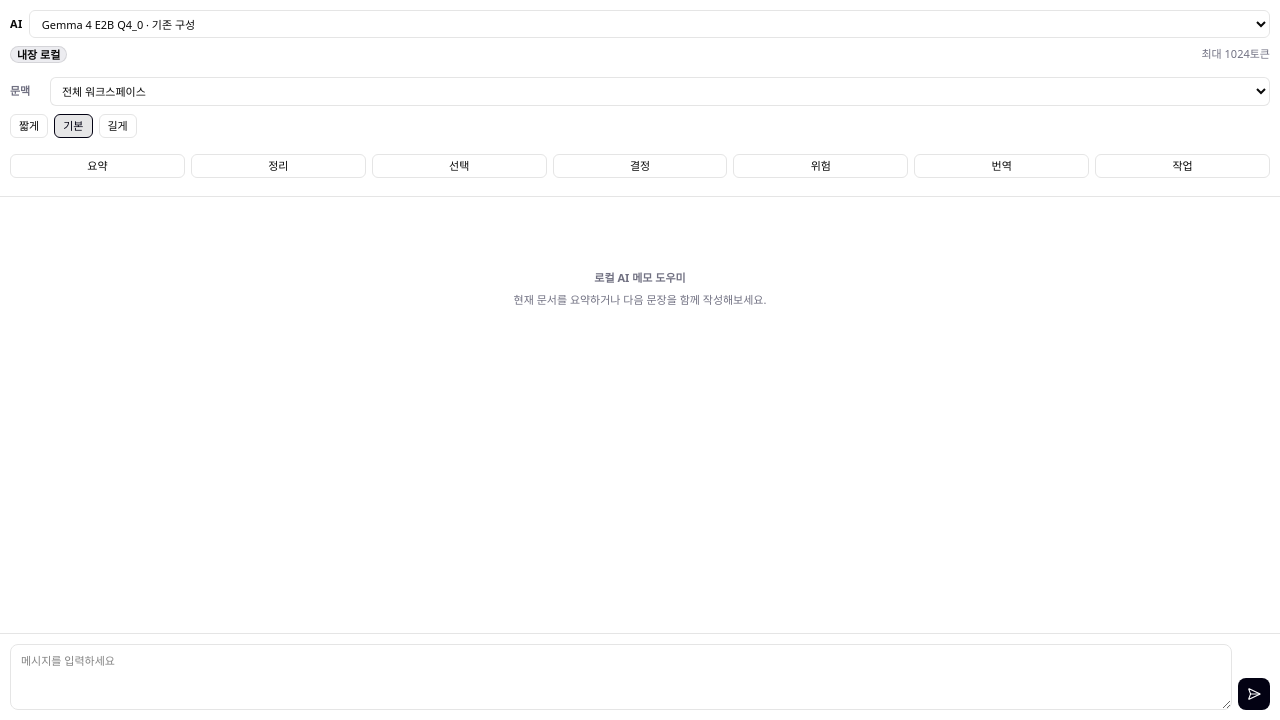
Test: AiAssistantPanel › enters generating state and sends only once for Enter
This screenshot has width=1280, height=720.
Step 1. Type "한 번만" into the text box named "AI 메시지" → {"x": 621, "y": 677}, box [10,644,1232,710]
Then press Enter
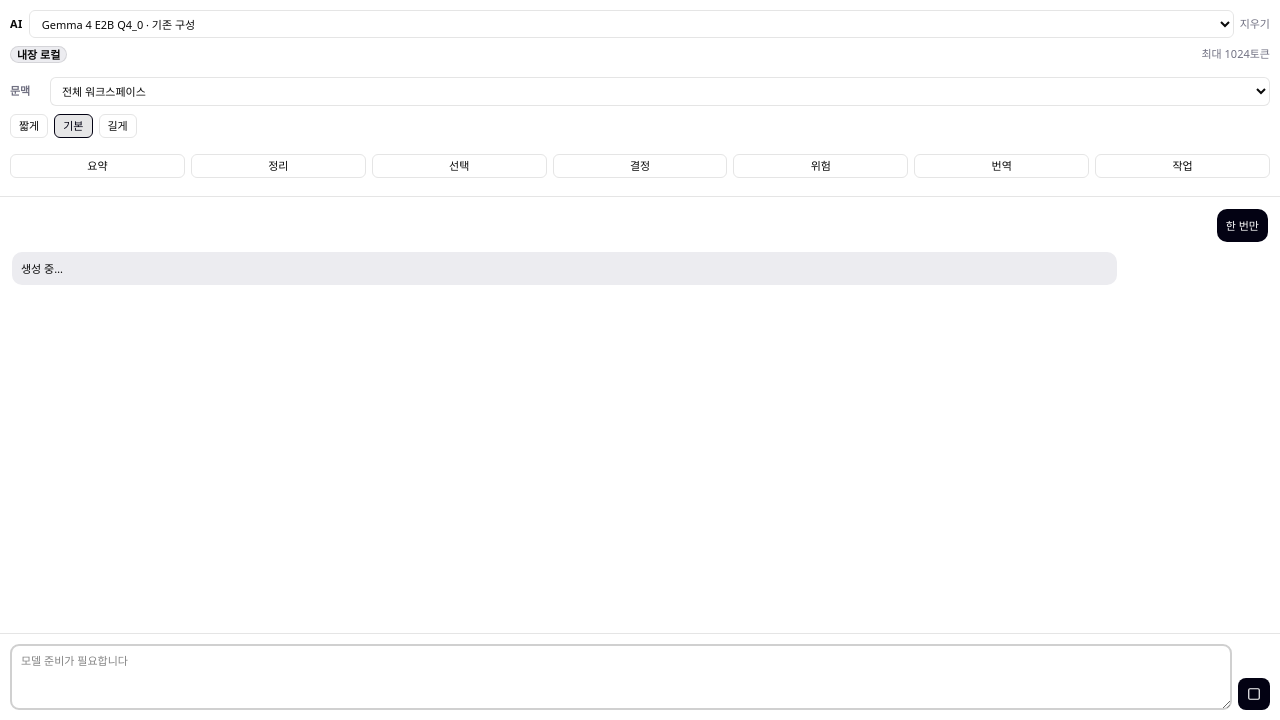
Check: the button named "생성 취소" is shown, box [1238,678,1270,710]
